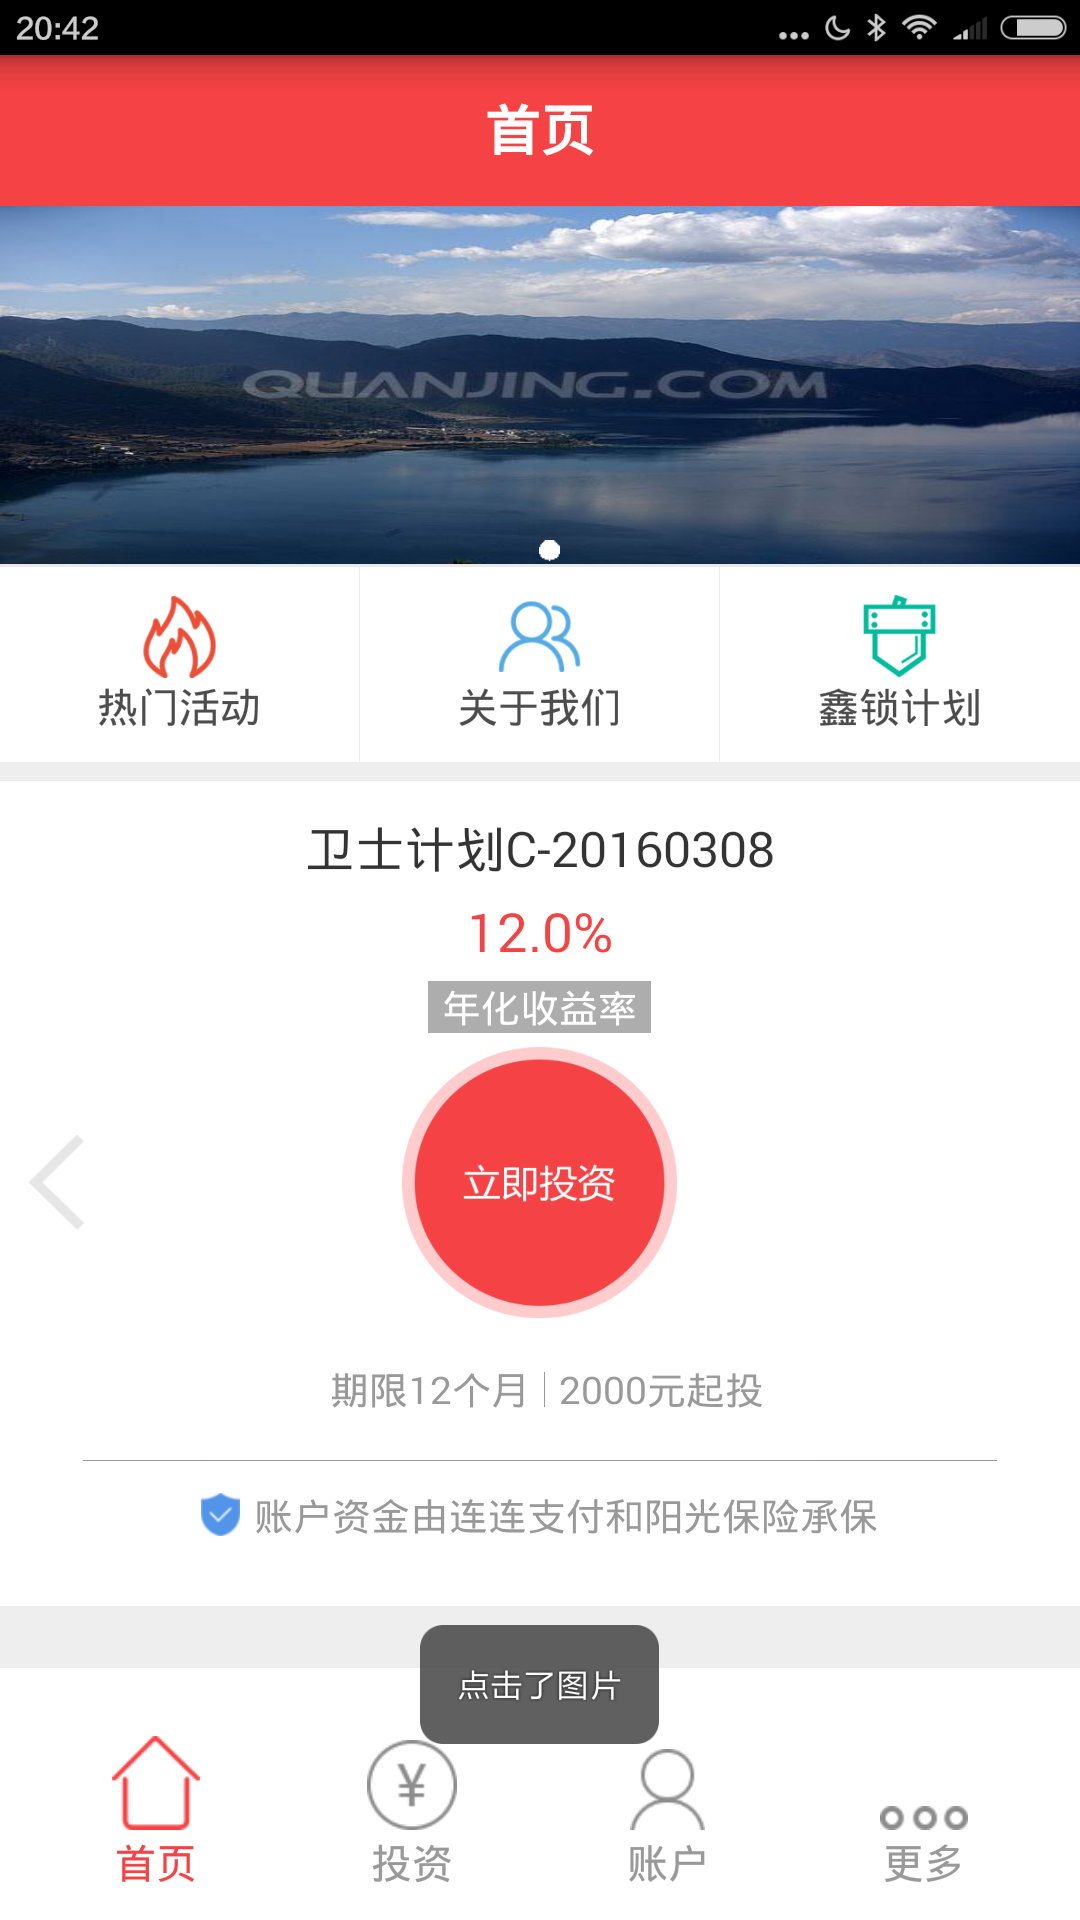alert: (418, 1614, 673, 1753)
